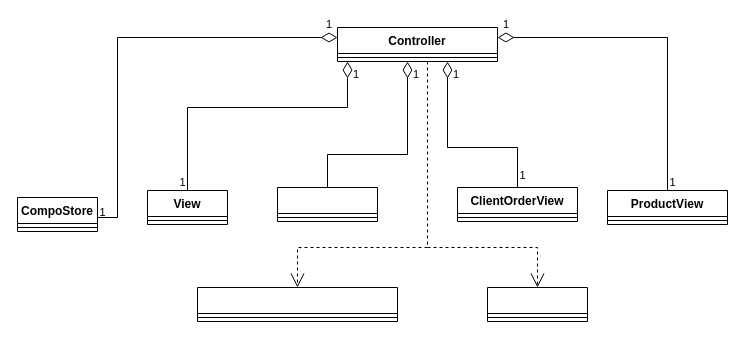
This 745x339 diagram has some shape labels left out. The centre of each missing label's shape, as x and y in pixels:
"ClientView" goes at point 327,204.
"DataConsistencyException" goes at point 297,304.
"Utils" goes at point 537,304.
